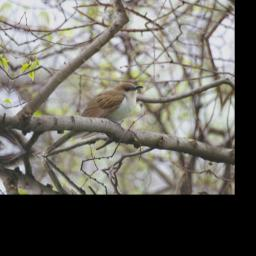Cuckoo: (41, 66, 144, 176)
